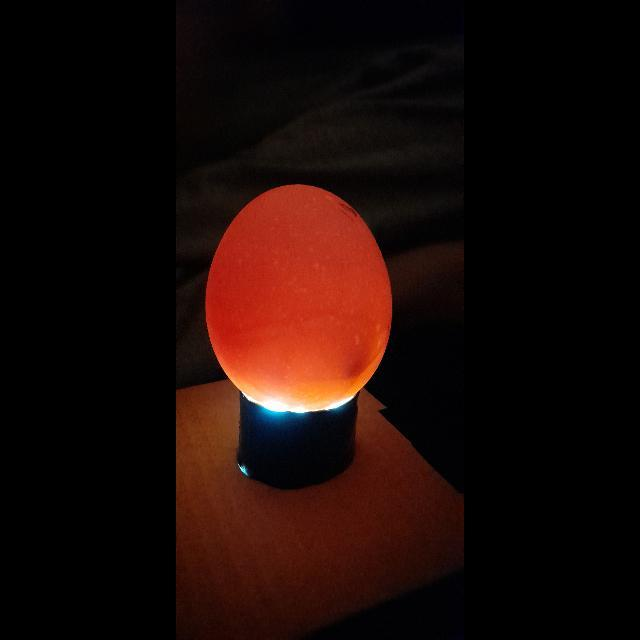Fertile: (203, 178, 404, 418)
